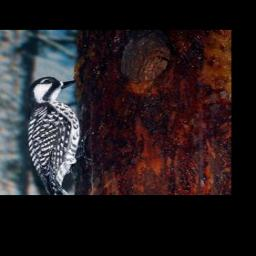Woodpecker: (24, 72, 94, 195)
